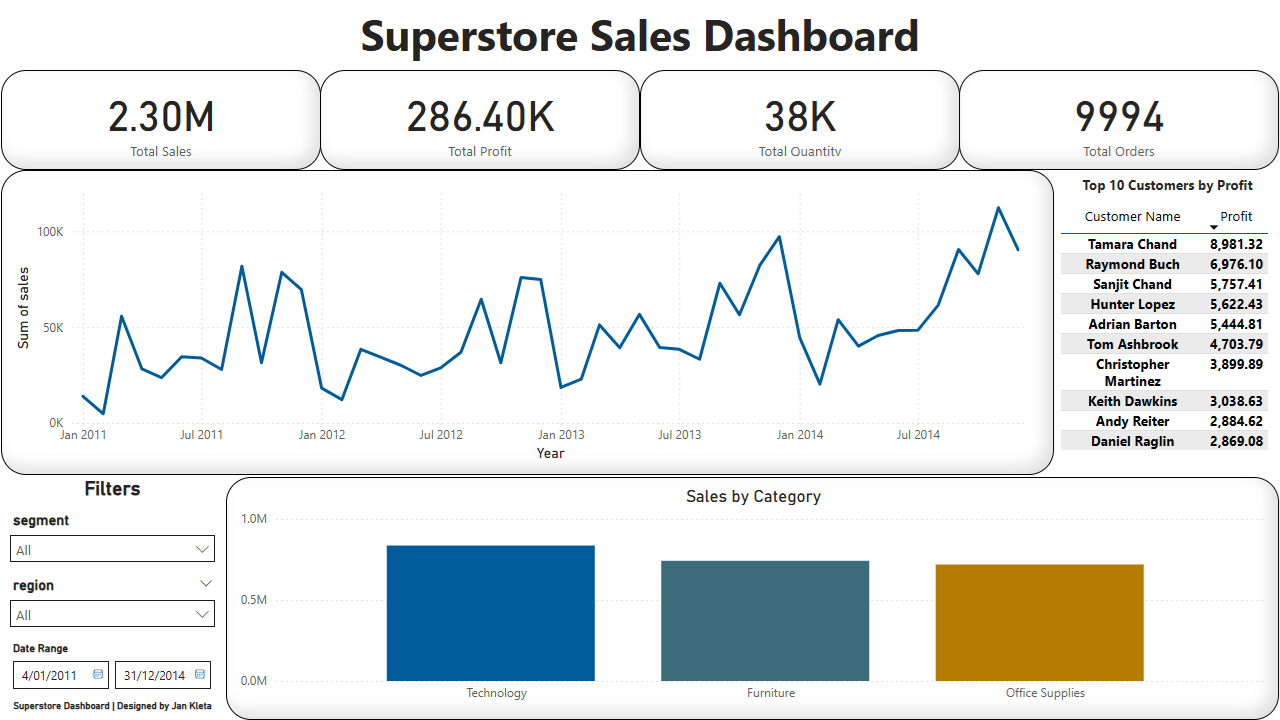

This screenshot's page, from the dashboard's own definition file:
{"tool":"powerbi","page":{"name":"Page 1","canvas":[1280,720],"ordinal":0},"visuals":[{"type":"tableEx","fields":{"Values":["fact_sales_export (2).customer_name","fact_sales_export (2).profit"]},"box":[1055,200.3,225,266.2],"z":0,"group":"g1"},{"type":"card","title":"Total Sales","fields":{"Values":["fact_sales_export (2).sales"]},"box":[1,69.7,320,100],"z":0},{"type":"textbox","box":[1055,170.5,225,30.3],"z":1000,"group":"g1"},{"type":"card","fields":{"Values":["fact_sales_export (2).profit"]},"box":[320,70,320,100],"z":1000},{"type":"card","fields":{"Values":["fact_sales_export (2).order_id"]},"box":[959,70,320,100],"z":2000},{"type":"card","fields":{"Values":["fact_sales_export (2).quantity"]},"box":[640,70,320,100],"z":3000},{"type":"clusteredColumnChart","title":"Sales by Category","fields":{"Category":["fact_sales_export (2).category"],"Y":["fact_sales_export (2).sales"]},"box":[226,477,1053,243],"z":4000},{"type":"lineChart","fields":{"Y":["fact_sales_export (2).sales"],"Category":["fact_sales_export (2).order_date.Variation.Date Hierarchy.Year","fact_sales_export (2).order_date.Variation.Date Hierarchy.Month"]},"box":[1,170,1053,305],"z":5000},{"type":"slicer","fields":{"Values":["fact_sales_export (2).segment"]},"box":[0,507,225,65],"z":6000},{"type":"slicer","fields":{"Values":["fact_sales_export (2).region"]},"box":[0,572,225,65],"z":7000},{"type":"textbox","box":[0,0,1280,70],"z":8000},{"type":"group","id":"g1","title":"TableTextBox","box":[1055,170.5,225,296],"z":9000},{"type":"slicer","fields":{"Values":["fact_sales_export.order_date"]},"box":[0,637,225,65],"z":10000},{"type":"shape","title":"Filters","box":[0,477,225,30],"z":11000},{"type":"textbox","title":"Superstore Dashboard | Designed by Jan Kleta","box":[0,695,225,25],"z":12000}]}

Visuals, with their boxes in screenshot pixels (x1, y1, x2, y2), scaled from the page's 1280x720 canvas onto the 1280x720 screenshot:
tableEx - fact_sales_export (2).customer_name x fact_sales_export (2).profit: 1055:200:1279:466
"Total Sales" card: 1:70:321:170
textbox: 1055:170:1279:201
card - fact_sales_export (2).profit: 320:70:640:170
card - fact_sales_export (2).order_id: 959:70:1279:170
card - fact_sales_export (2).quantity: 640:70:960:170
"Sales by Category" clusteredColumnChart: 226:477:1279:719
lineChart - fact_sales_export (2).sales x fact_sales_export (2).order_date.Variation.Date Hierarchy.Year: 1:170:1054:475
slicer - fact_sales_export (2).segment: 0:507:225:572
slicer - fact_sales_export (2).region: 0:572:225:637
textbox: 0:0:1279:70
"TableTextBox" group: 1055:170:1279:466
slicer - fact_sales_export.order_date: 0:637:225:702
"Filters" shape: 0:477:225:507
"Superstore Dashboard | Designed by Jan Kleta" textbox: 0:695:225:719
